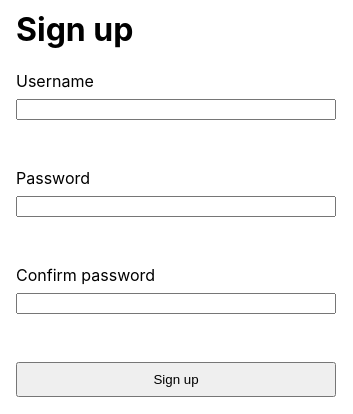
Test: SignUpPage › should show an error if password is too short
This screenshot has width=353, height=414.
Type "1L%" into the password field labelled "Password" at (176, 206), box [16, 196, 336, 217]
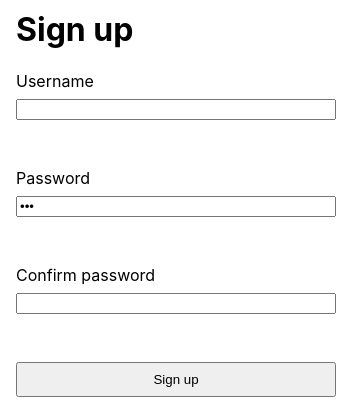
Click the button at (176, 379), box [16, 362, 336, 397]
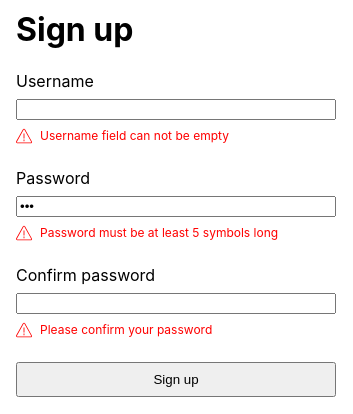
Expected: the text with test id "password-input-error" reads "Password must be at least 5 symbols long", [40, 225, 278, 240]
Type "1234L%" into the password field labelled "Password" at (176, 206), box [16, 196, 336, 217]
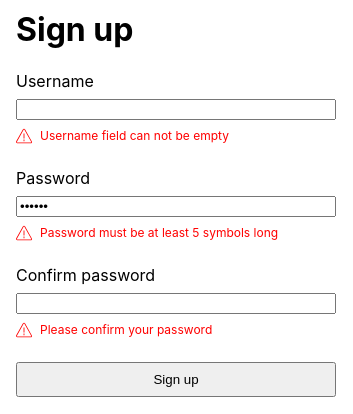
Click the button at (176, 379), box [16, 362, 336, 397]
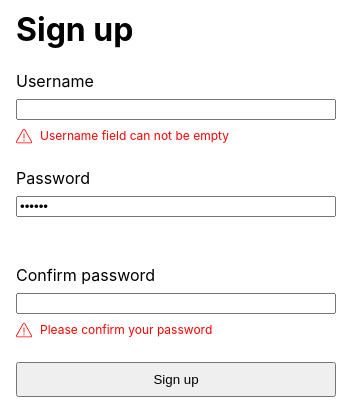
Expected: the text with test id "password-input-error" is gone
